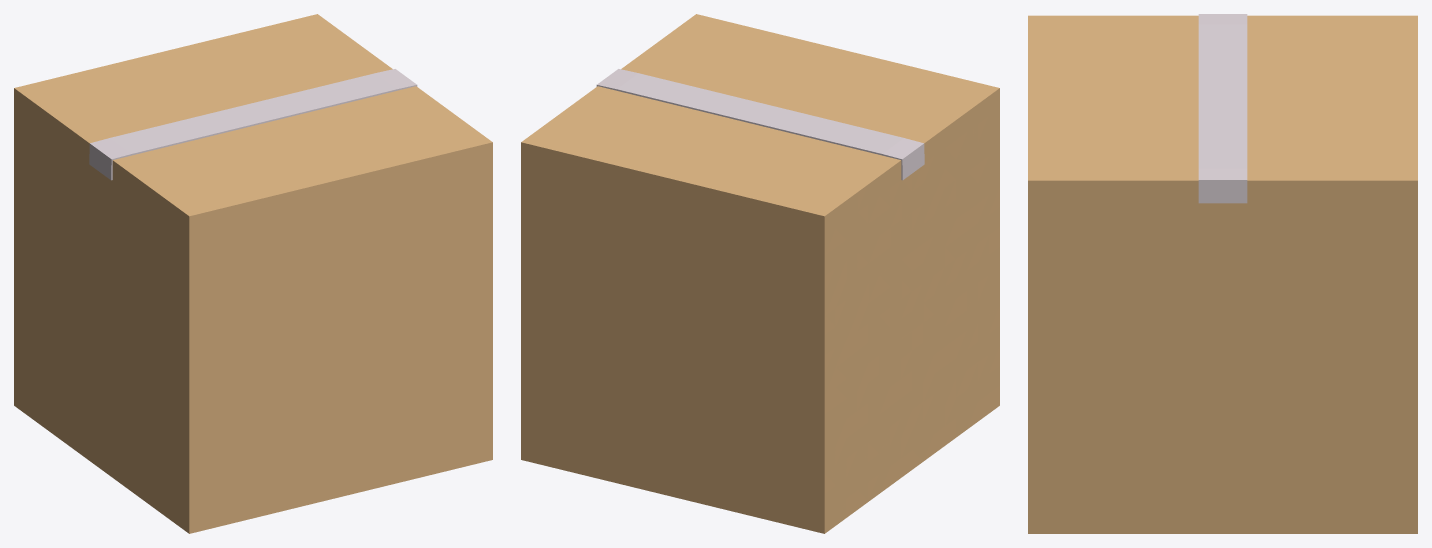
Rendered from first_box.dae.
3 views of the same model, side by side, from view 1: azimuth 30°, elevation 25°; view 2: azimuth 150°, elevation 25°; view 3: azimuth 270°, elevation 25° (orthographic). The views are drawn at different scales.
Parts seen in each view (by area): view 1: Box, Tape; view 2: Box, Tape; view 3: Box, Tape.
Part boxes in pixels (bbox=[...]): Box: bbox=[14, 14, 492, 533]; Tape: bbox=[89, 69, 417, 180]; Box: bbox=[521, 14, 999, 533]; Tape: bbox=[596, 69, 924, 180]; Box: bbox=[1028, 15, 1417, 533]; Tape: bbox=[1198, 14, 1247, 203].
Size of the model in its own units: 0.205 by 0.203 by 0.204.
